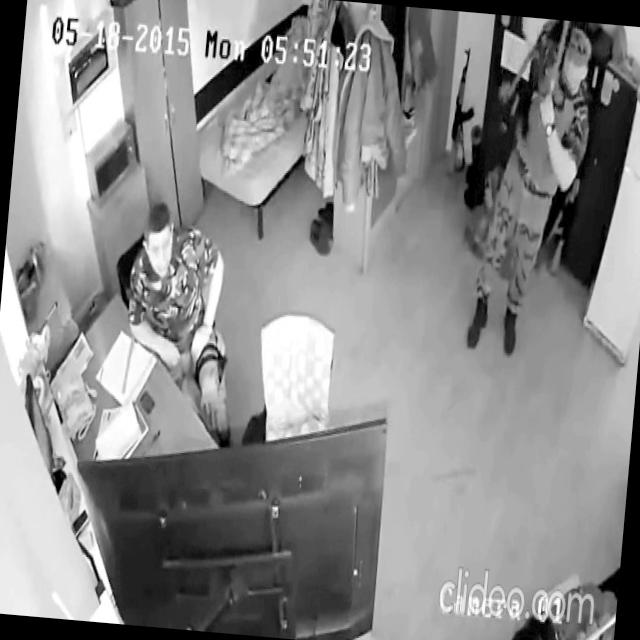gun: (484, 14, 564, 172), (443, 42, 482, 185)
person: (115, 197, 251, 450)
person with a gun: (462, 18, 594, 366)
